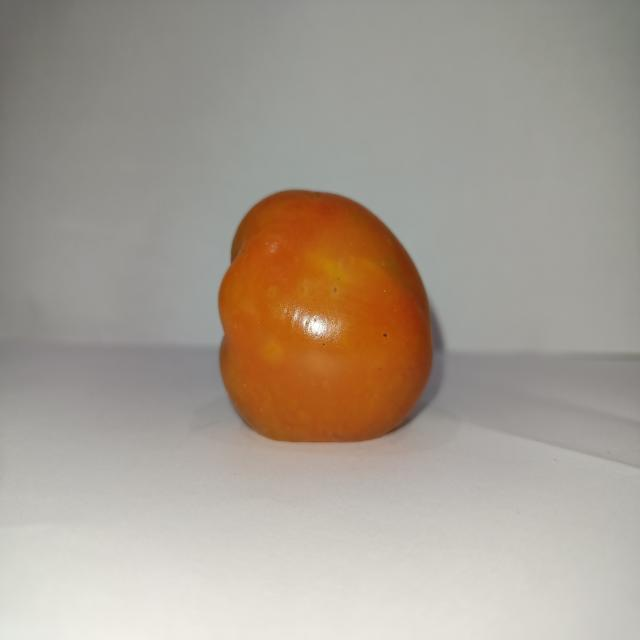Red: (216, 187, 434, 443)
